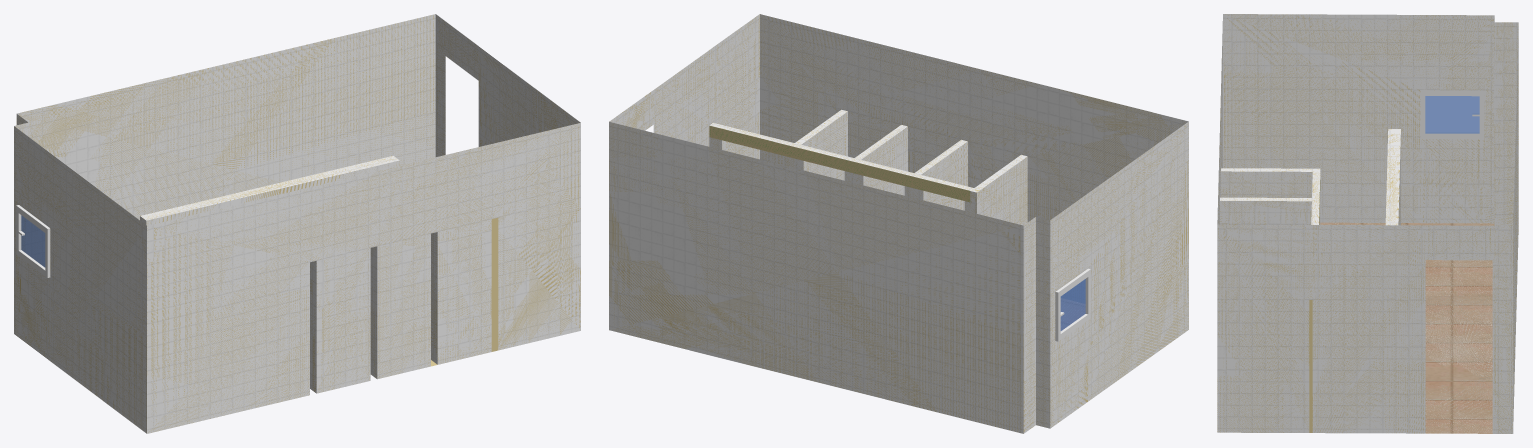
The model's file is COM026.obj.
The picture shows the model from 3 angles, left to right: view 1: azimuth 30°, elevation 25°; view 2: azimuth 150°, elevation 25°; view 3: azimuth 270°, elevation 25°; orthographic projection.
Visible parts, largest first — view 1: Mesh4 COM026 Model, Mesh1 ventana3_1 COM026 Model, Mesh5 COM026 Model; view 2: Mesh4 COM026 Model, Mesh1 ventana3_1 COM026 Model, Mesh5 COM026 Model; view 3: Mesh4 COM026 Model, Mesh1 ventana3_1 COM026 Model, Mesh5 COM026 Model.
Part boxes in pixels (bbox=[...]): Mesh4 COM026 Model: bbox=[14, 14, 580, 433]; Mesh1 ventana3_1 COM026 Model: bbox=[16, 205, 50, 277]; Mesh5 COM026 Model: bbox=[445, 22, 478, 80]; Mesh4 COM026 Model: bbox=[609, 14, 1188, 433]; Mesh1 ventana3_1 COM026 Model: bbox=[1055, 268, 1090, 341]; Mesh5 COM026 Model: bbox=[619, 90, 653, 130]; Mesh4 COM026 Model: bbox=[1217, 14, 1518, 433]; Mesh1 ventana3_1 COM026 Model: bbox=[1420, 90, 1484, 139]; Mesh5 COM026 Model: bbox=[1425, 225, 1492, 260].
Size of the model in its own units: 7.87 by 3.6 by 4.72.
Materials: 7 (3 with a texture image).
